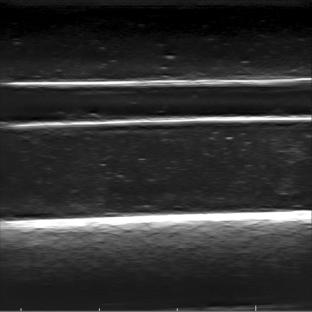vessel: (1, 77, 308, 126)
